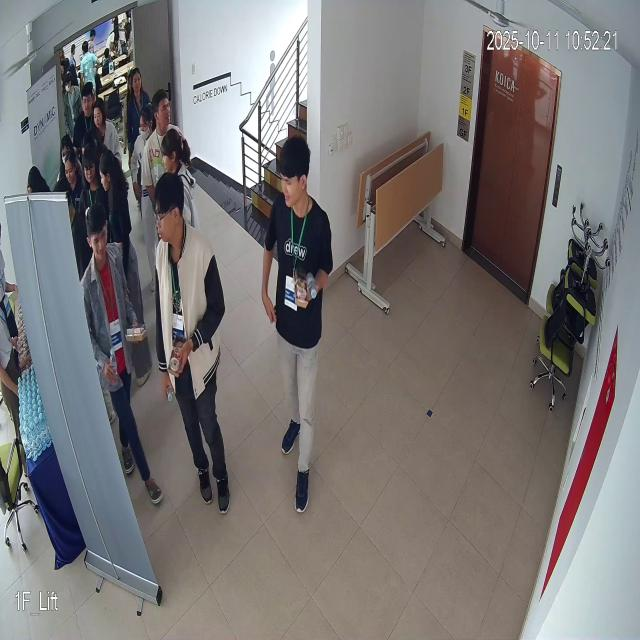face: (272, 126, 312, 216), (146, 168, 182, 247), (83, 196, 112, 278)
